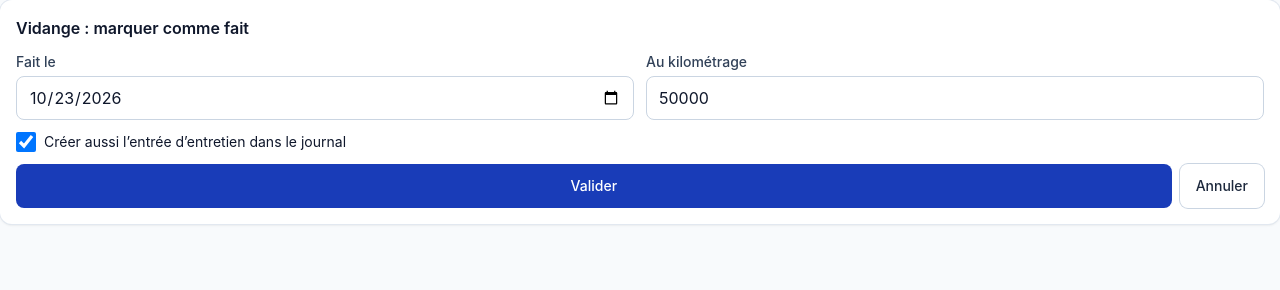
Test: refuses a non-integer odometer
Replace the text in the field labelled "Au kilométrage" with "45,5". click: (955, 98)
box: [646, 76, 1264, 120]
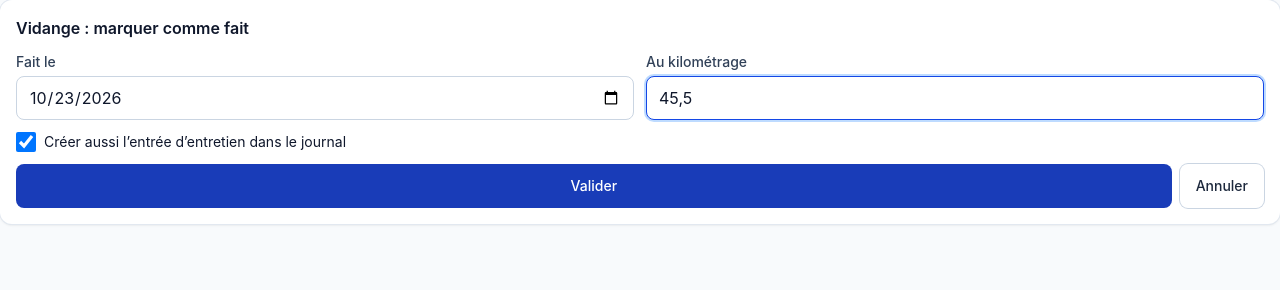
Click the button "Valider". click: (594, 186)
box: [16, 164, 1172, 208]
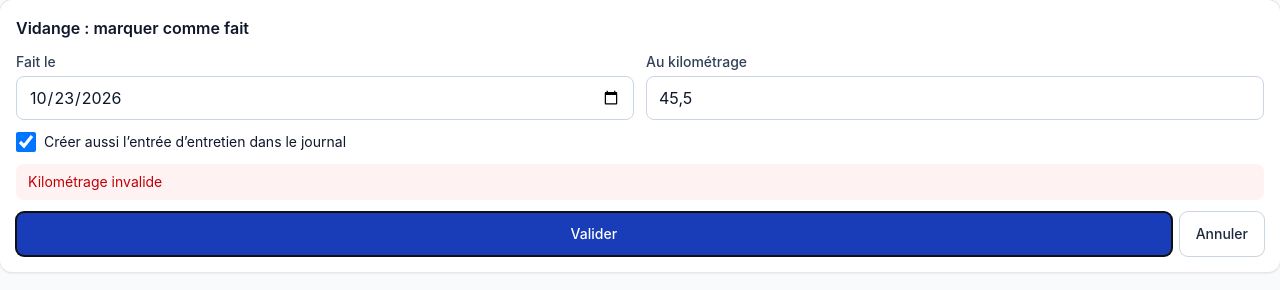
Expected: the message reads "Kilométrage invalide", [28, 173, 162, 190]
